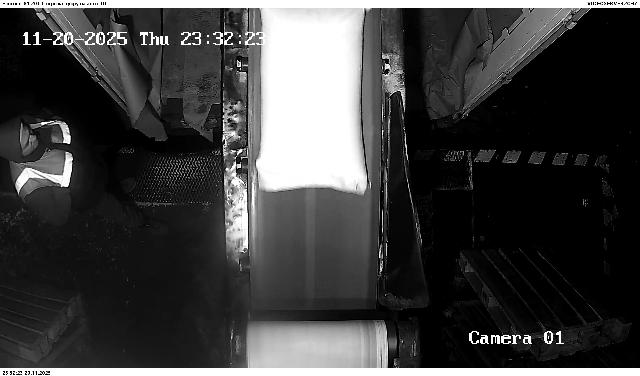bag: (255, 8, 369, 195)
